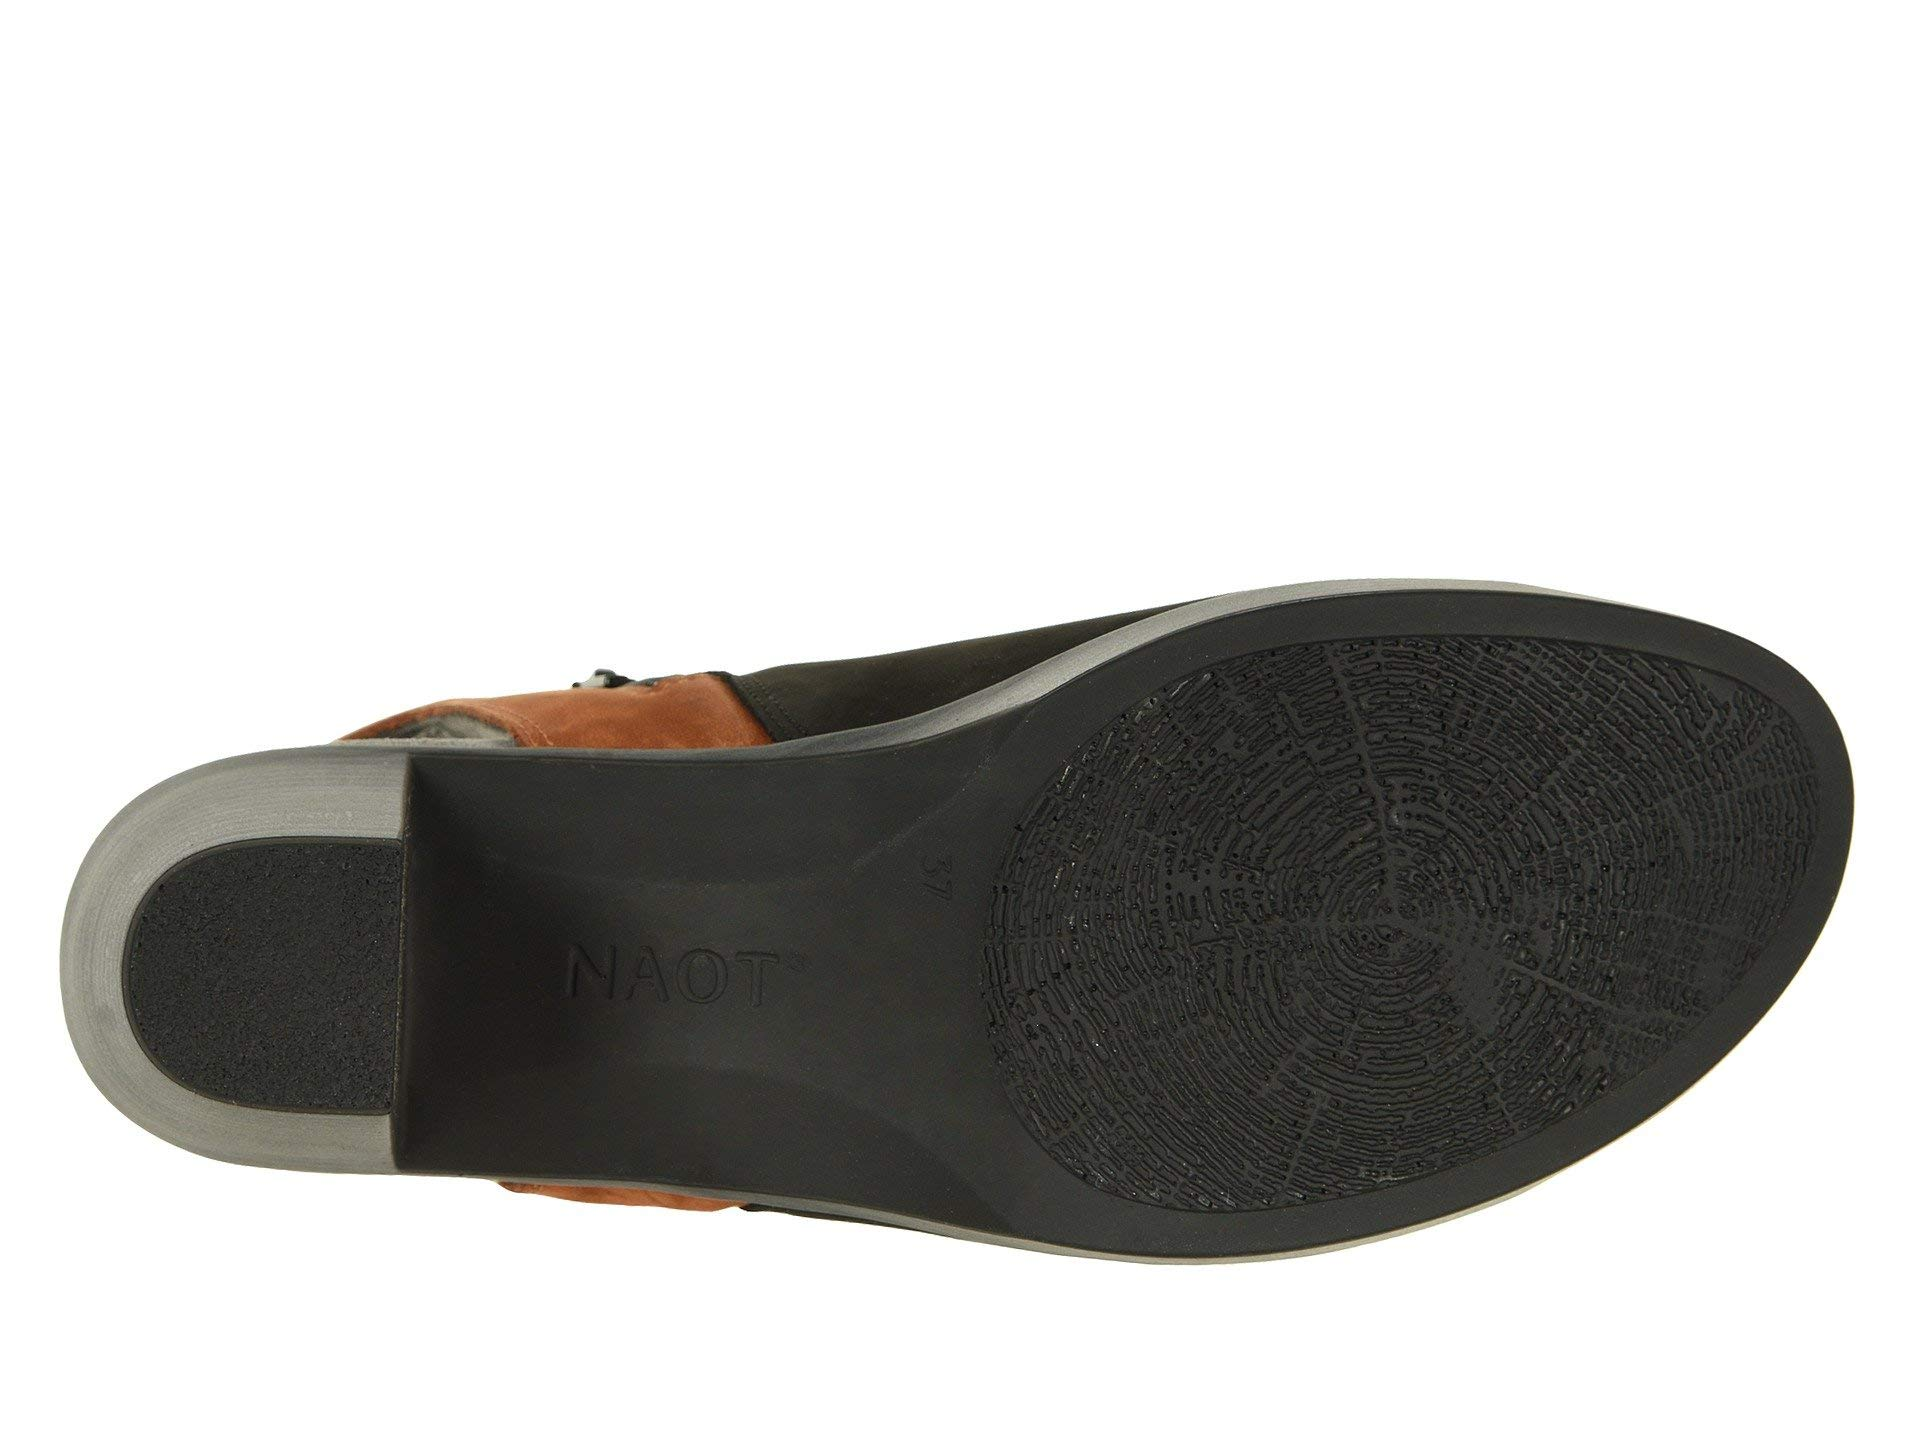circle: (1066, 681, 1701, 1097), (543, 911, 824, 1057)
line: (1066, 681, 1701, 1097)
other: (178, 871, 379, 1068)
text: (543, 911, 824, 1057)
